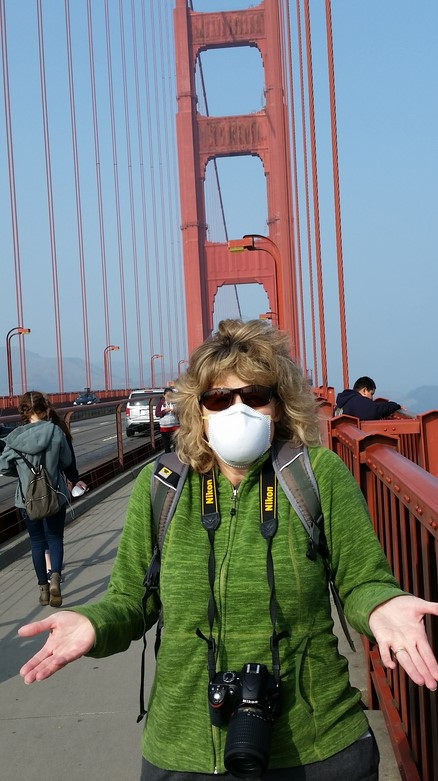face_with_mask: (190, 342, 290, 472)
